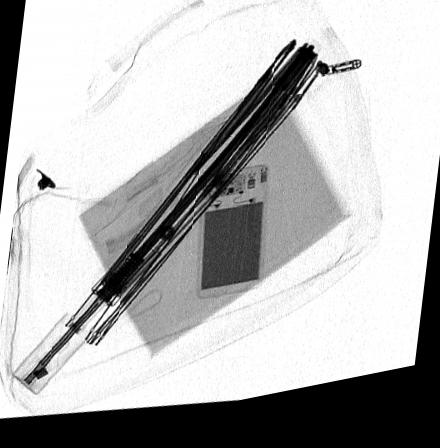Powerbank: (197, 174, 269, 308)
